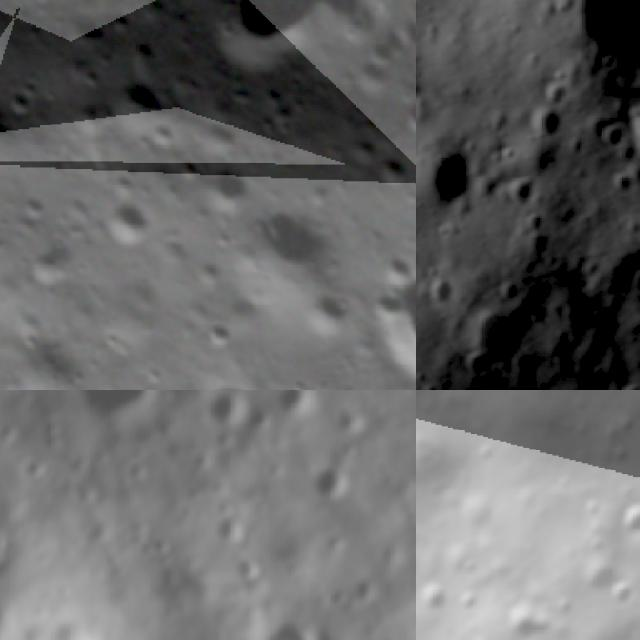crater: (167, 0, 344, 92), (241, 193, 339, 291), (354, 250, 416, 390), (88, 187, 168, 267), (103, 64, 182, 143), (193, 148, 270, 225), (581, 0, 640, 98), (462, 308, 526, 381), (296, 277, 360, 343), (486, 588, 567, 640), (59, 0, 123, 60), (430, 144, 481, 213), (76, 390, 172, 423), (0, 68, 31, 169), (187, 360, 283, 390), (0, 77, 48, 132), (12, 182, 62, 233), (416, 570, 460, 626), (209, 390, 263, 430), (605, 486, 640, 547), (602, 572, 640, 621), (602, 404, 640, 447), (303, 467, 347, 503), (272, 390, 328, 416), (520, 224, 557, 262), (529, 106, 566, 141), (422, 274, 461, 306), (264, 617, 318, 640), (507, 173, 539, 210), (492, 278, 528, 302), (543, 81, 575, 103), (606, 122, 628, 151)
